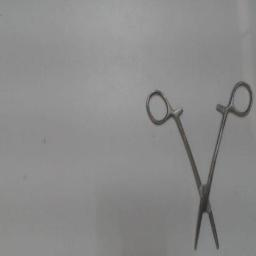Mayo Needle Holder: (141, 78, 255, 254)
